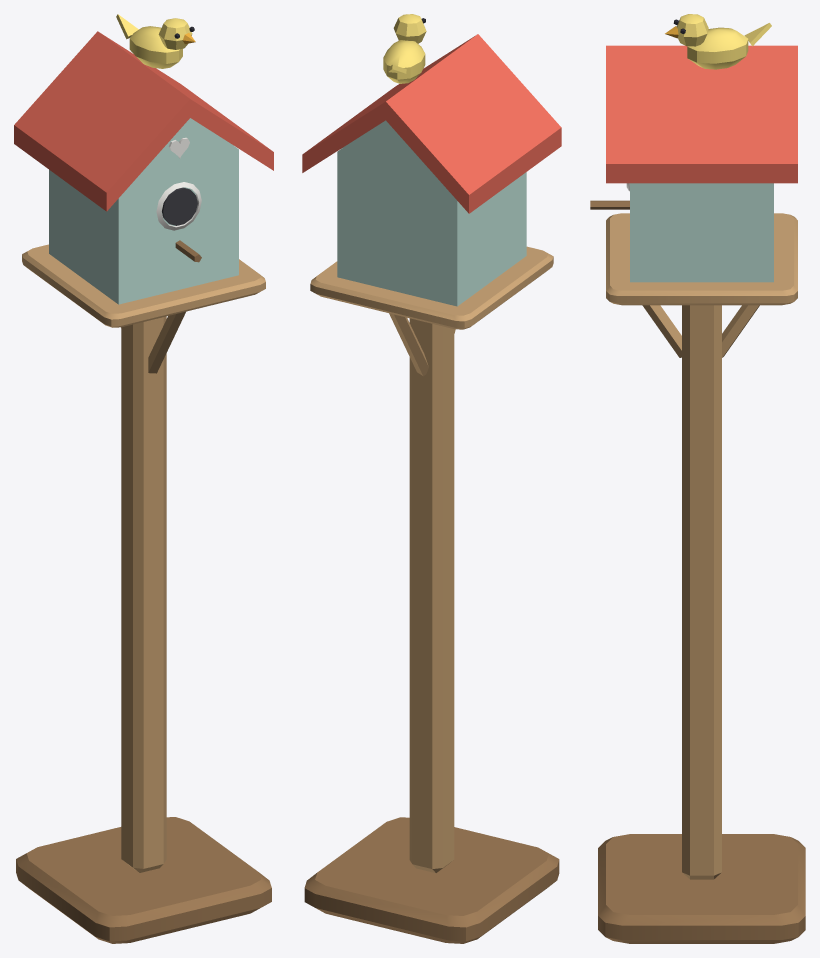
Rendered from furn_birdhouse.glb.
The picture shows the model from 3 angles, left to right: view 1: azimuth 30°, elevation 25°; view 2: azimuth 150°, elevation 25°; view 3: azimuth 270°, elevation 25°; orthographic projection. The views are drawn at different scales.
Visible parts, largest first — view 1: furn_birdhouse_body; view 2: furn_birdhouse_body; view 3: furn_birdhouse_body.
Part boxes in pixels (x1,y1,x2,y2): furn_birdhouse_body: (14, 14, 273, 943); furn_birdhouse_body: (302, 14, 561, 943); furn_birdhouse_body: (590, 14, 805, 943).
Size of the model in its own units: 0.26 by 1.25 by 0.27.
